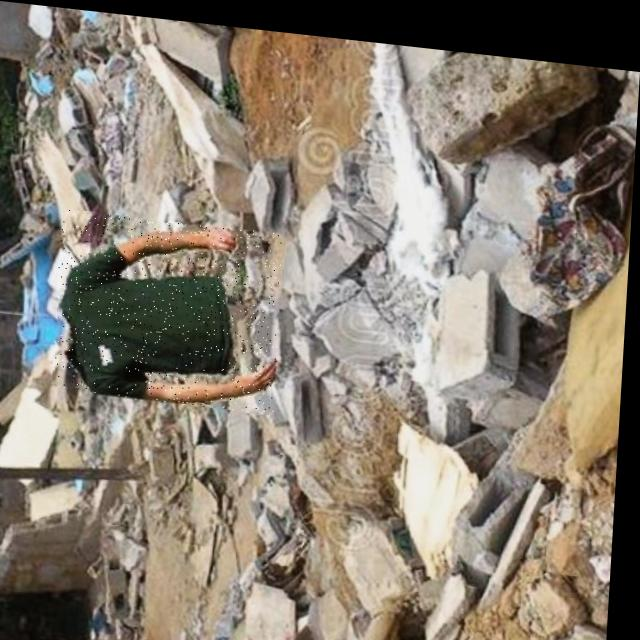Person in Rubble: (57, 207, 287, 407)
